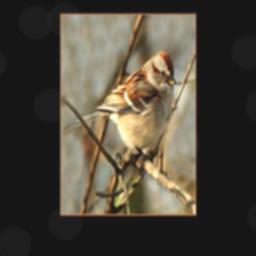Sparrow: (65, 50, 176, 182)
